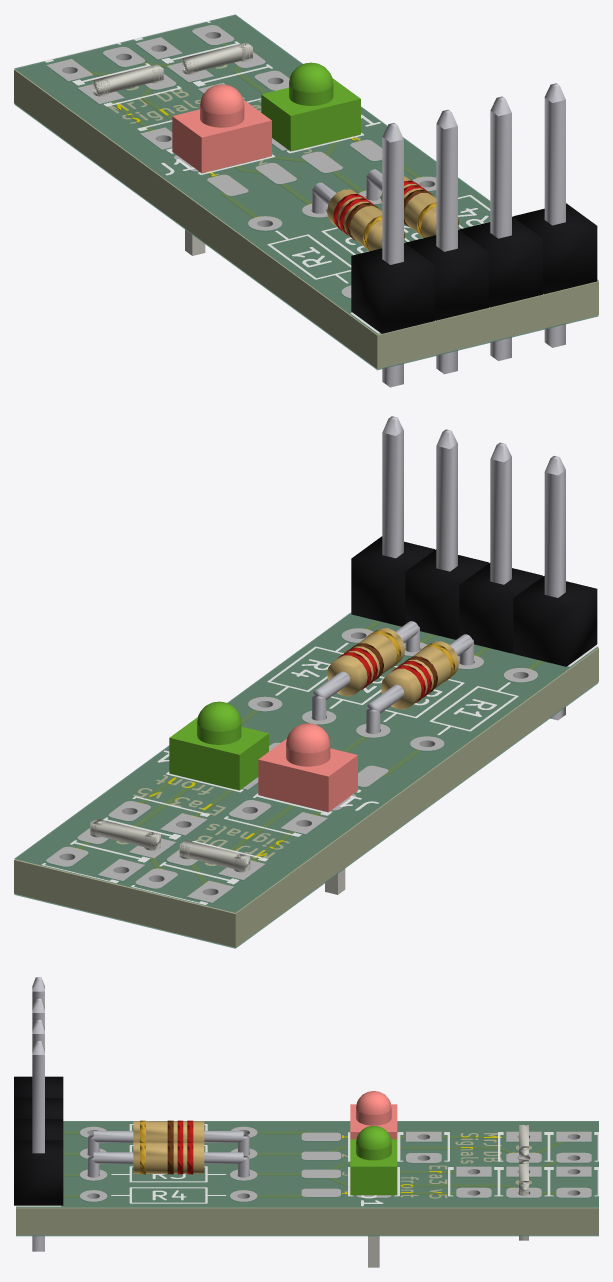
File: MrJ-DB-Era3-breadboard-bloc-Hp0.glb
3 renders of one model, top to bottom at view 1: azimuth 30°, elevation 25°; view 2: azimuth 150°, elevation 25°; view 3: azimuth 270°, elevation 25°, orthographic. The views are drawn at different scales.
Parts seen in each view (by area): view 1: =>[0:1:1:17], =>[0:1:1:3] (×4), =>[0:1:1:15], =>[0:1:1:13], =>[0:1:1:11], =>[0:1:1:5], =>[0:1:1:9] (×2), =>[0:1:1:14], =>[0:1:1:7] (×2), =>[0:1:1:12], =>[0:1:1:16]; view 2: =>[0:1:1:17], =>[0:1:1:15], =>[0:1:1:3] (×4), =>[0:1:1:13], =>[0:1:1:9] (×2), =>[0:1:1:11], =>[0:1:1:5], =>[0:1:1:14], =>[0:1:1:7] (×2), =>[0:1:1:12], =>[0:1:1:16]; view 3: =>[0:1:1:17], =>[0:1:1:15], =>[0:1:1:3] (×4), =>[0:1:1:13], =>[0:1:1:9] (×2), =>[0:1:1:5], =>[0:1:1:14], =>[0:1:1:11], =>[0:1:1:12], =>[0:1:1:16], =>[0:1:1:7].
Boxes of the visible parts, left/top/right/bottom form: =>[0:1:1:17]: left=14, top=16, right=598, bottom=369; =>[0:1:1:3] (×4): left=351, top=83, right=597, bottom=387; =>[0:1:1:15]: left=14, top=14, right=598, bottom=334; =>[0:1:1:13]: left=46, top=25, right=436, bottom=298; =>[0:1:1:11]: left=172, top=84, right=271, bottom=255; =>[0:1:1:5]: left=261, top=62, right=360, bottom=151; =>[0:1:1:9] (×2): left=312, top=169, right=458, bottom=250; =>[0:1:1:14]: left=44, top=20, right=490, bottom=333; =>[0:1:1:7] (×2): left=92, top=42, right=252, bottom=96; =>[0:1:1:12]: left=88, top=43, right=420, bottom=218; =>[0:1:1:16]: left=14, top=104, right=598, bottom=370; =>[0:1:1:17]: left=14, top=614, right=598, bottom=947; =>[0:1:1:15]: left=14, top=612, right=598, bottom=912; =>[0:1:1:3] (×4): left=351, top=416, right=597, bottom=720; =>[0:1:1:13]: left=46, top=628, right=537, bottom=903; =>[0:1:1:9] (×2): left=312, top=621, right=473, bottom=733; =>[0:1:1:11]: left=258, top=723, right=357, bottom=894; =>[0:1:1:5]: left=169, top=701, right=268, bottom=790; =>[0:1:1:14]: left=41, top=612, right=597, bottom=904; =>[0:1:1:7] (×2): left=90, top=818, right=250, bottom=872; =>[0:1:1:12]: left=76, top=621, right=542, bottom=884; =>[0:1:1:16]: left=14, top=682, right=598, bottom=948; =>[0:1:1:17]: left=16, top=1122, right=598, bottom=1235; =>[0:1:1:15]: left=16, top=1121, right=598, bottom=1207; =>[0:1:1:3] (×4): left=14, top=977, right=63, bottom=1251; =>[0:1:1:13]: left=80, top=1127, right=591, bottom=1201; =>[0:1:1:9] (×2): left=87, top=1120, right=249, bottom=1177; =>[0:1:1:5]: left=350, top=1126, right=397, bottom=1267; =>[0:1:1:14]: left=16, top=1124, right=598, bottom=1206; =>[0:1:1:11]: left=350, top=1091, right=397, bottom=1139; =>[0:1:1:12]: left=64, top=1132, right=564, bottom=1197; =>[0:1:1:16]: left=16, top=1235, right=598, bottom=1236; =>[0:1:1:7]: left=519, top=1160, right=528, bottom=1240.
Bounding box in the file's own units: 0.0104 × 0.0127 × 0.0297.
